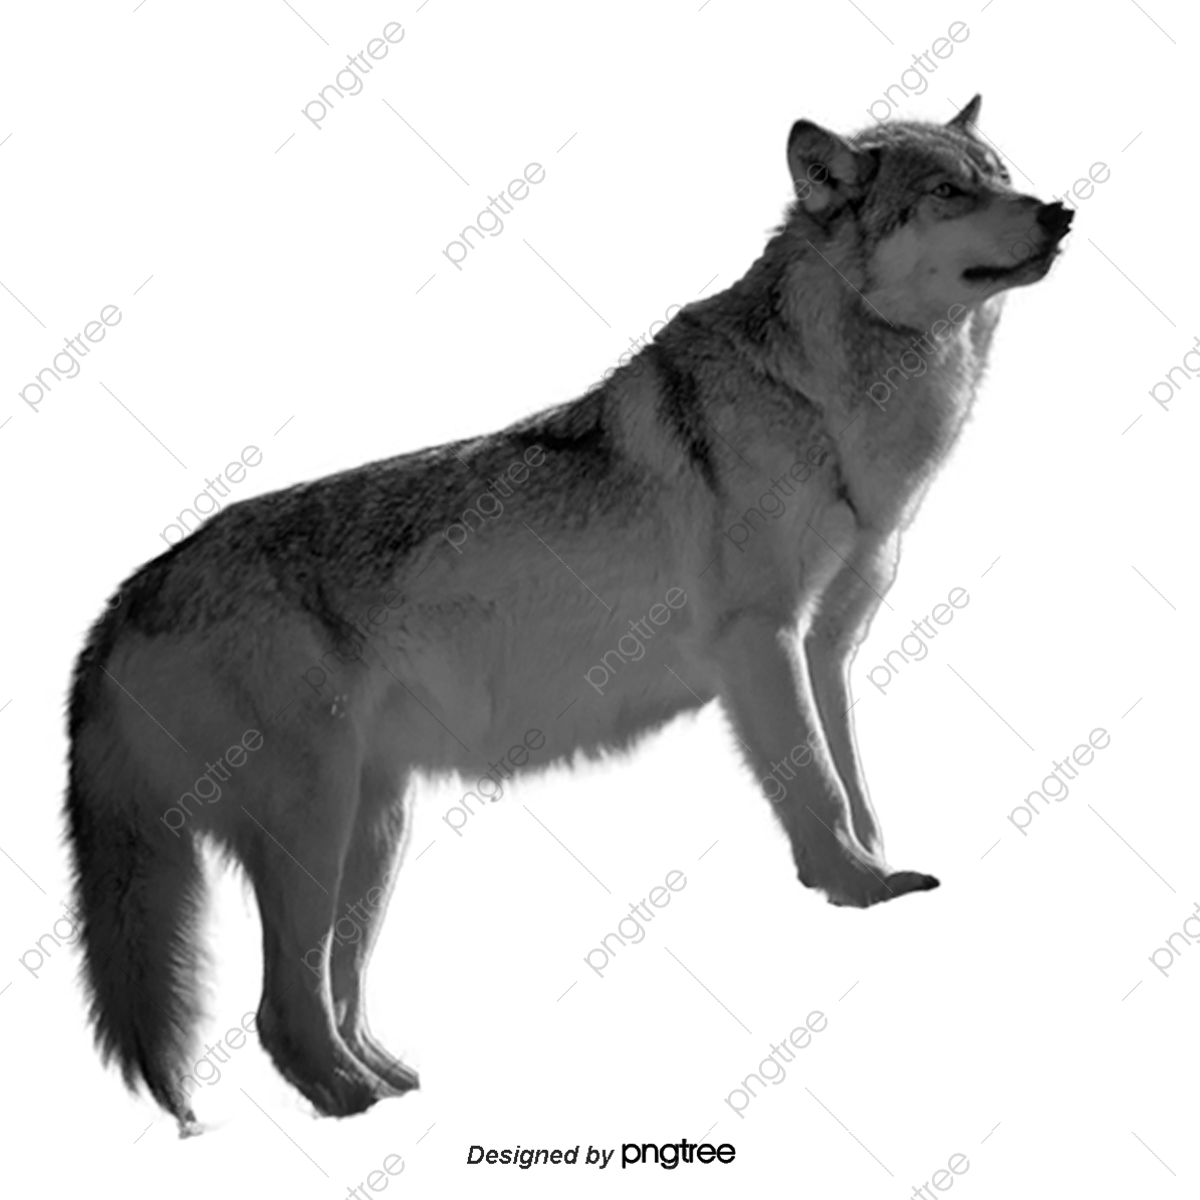Lobo: (77, 79, 1084, 1158)
